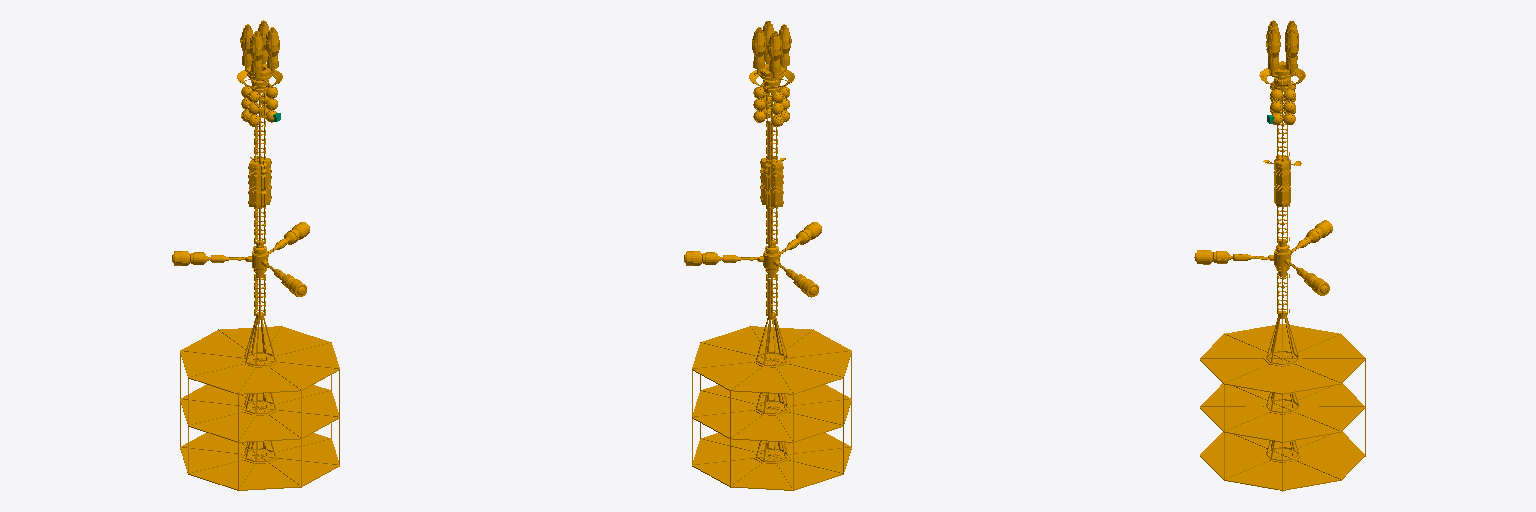
The robot description file, URDF, robot "satellite_17":
<?xml version='1.0' encoding='utf-8'?>
<robot name="satellite_17">
  <link name="base_link">
    <visual>
      <geometry>
        <mesh filename="satellite.stl" />
      </geometry>
    </visual>
    <collision>
      <geometry>
        <mesh filename="satellite.stl" />
      </geometry>
    </collision>
  </link>
  <link name="satellite_17_mount" />
  <joint name="satellite_mount_fixed" type="fixed">
    <parent link="base_link" />
    <child link="satellite_17_mount" />
    <origin xyz="0.21167709790354092 1.2761797060204623 2.356391633916866" rpy="-1.4432899320127035e-15 -1.4584003706330262 1.9683187523291181" />
  </joint>
  <link name="mount_support">
    <visual>
      <geometry>
        <mesh filename="mount_support.stl" />
      </geometry>
    </visual>
    <collision>
      <geometry>
        <mesh filename="mount_support.stl" />
      </geometry>
    </collision>
  </link>
  <joint name="support_fixed" type="fixed">
    <parent link="satellite_17_mount" />
    <child link="mount_support" />
    <origin xyz="0 0 0" rpy="0 0 0" />
  </joint>
</robot>

--- Render facts (derived) ---
3 views of the same robot in one strip: view 1: azimuth 30°, elevation 25°; view 2: azimuth 150°, elevation 25°; view 3: azimuth 270°, elevation 25° (orthographic).
Robot: satellite_17 — 3 links, 2 joints (2 fixed); root link base_link; default pose: every joint at zero.
Visible links, largest first — view 1: base_link; view 2: base_link; view 3: base_link.
Boxes of the visible links, box(x1,y1,x2,y2) form: base_link: box(172, 20, 339, 490); base_link: box(684, 21, 851, 490); base_link: box(1194, 20, 1365, 491).
Size in the robot's own frame: 2.78 by 2.87 by 8 metres.
2 mesh visuals loaded from 2 distinct referenced files (2 binary STL).
